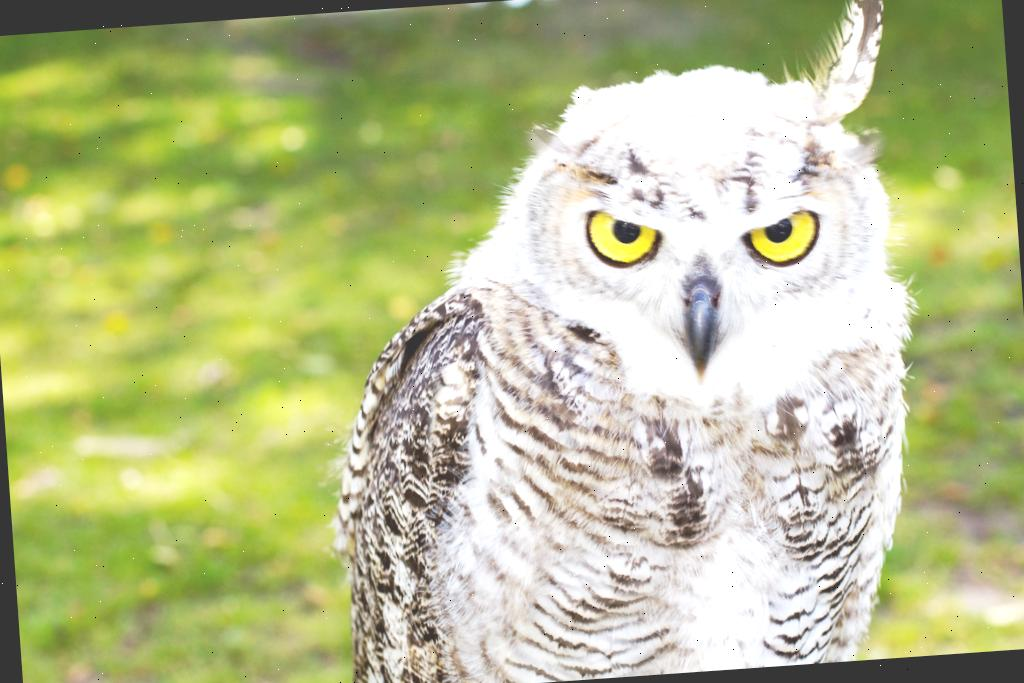Owl: (286, 0, 933, 683)
